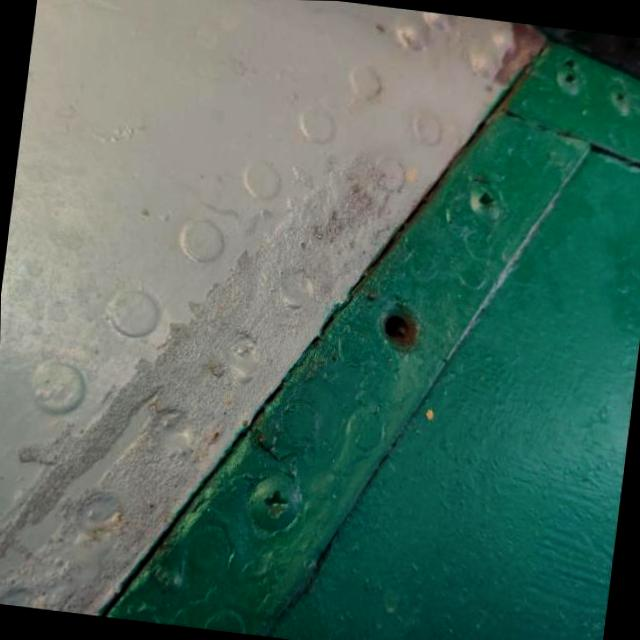Missing Fastener: (371, 296, 432, 360)
